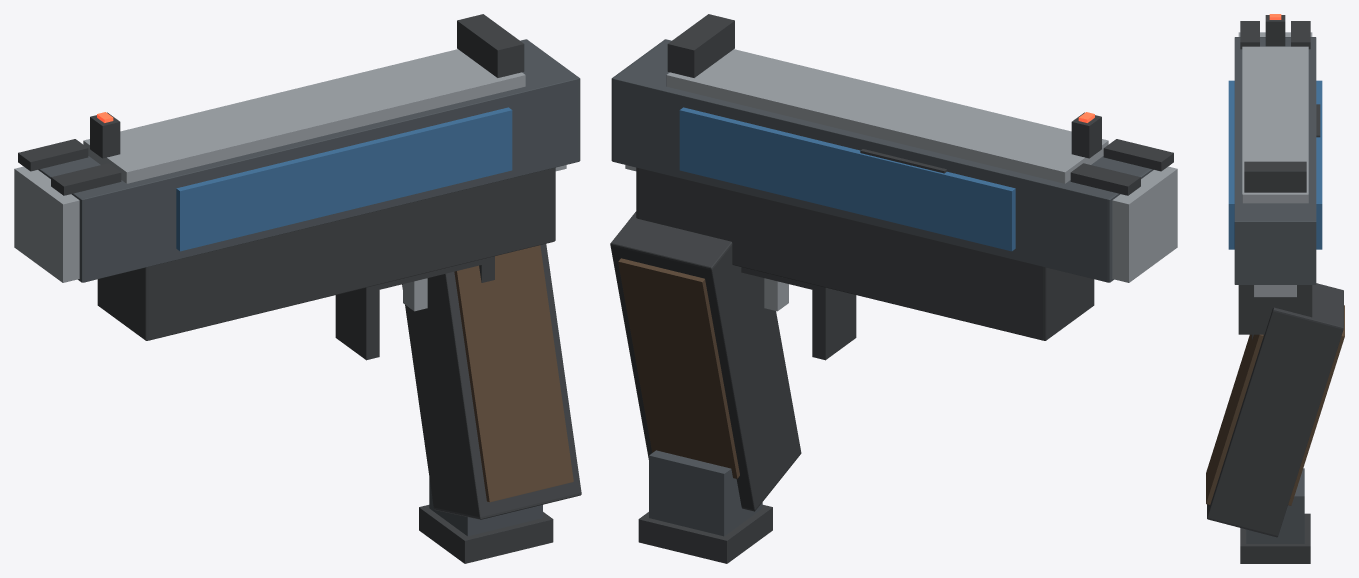
File: pistol_cobalt.glb
3 renders of one model, left to right at view 1: azimuth 30°, elevation 25°; view 2: azimuth 150°, elevation 25°; view 3: azimuth 270°, elevation 25°, orthographic. The views are drawn at different scales.
Visible parts, largest first — view 1: Frame.001, SlideBody.001, AccentL, GripPanelL.001, SlideTop.001, Grip.001, MuzzleRing.001, MagPlate.001, RearSight.001, GuardFront.001, MagBody.001, CompPort (+4 smaller); view 2: Frame.001, SlideBody.001, AccentR, SlideTop.001, Grip.001, GripPanelR.001, MagBody.001, MuzzleRing.001, MagPlate.001, RearSight.001, GuardFront.001, CompPort (+3 smaller); view 3: Grip.001, SlideBody.001, SlideTop.001, GripPanelL.001, Frame.001, RearSight.001, MagPlate.001, MagBody.001, AccentL, AccentR, GripPanelR.001, FrontSight.001 (+3 smaller).
Boxes of the visible parts, x1,y1,x2,y2 form: Frame.001: (97, 167, 555, 340); SlideBody.001: (38, 39, 580, 282); AccentL: (176, 107, 512, 251); GripPanelL.001: (454, 245, 573, 502); SlideTop.001: (83, 49, 525, 183); Grip.001: (402, 244, 581, 519); MuzzleRing.001: (14, 166, 79, 282); MagPlate.001: (419, 505, 553, 563); RearSight.001: (457, 14, 524, 77); GuardFront.001: (335, 284, 379, 360); MagBody.001: (429, 478, 542, 536); CompPort: (51, 163, 121, 195); Frame.001: (636, 167, 1094, 340); SlideBody.001: (611, 39, 1153, 282); AccentR: (679, 107, 1015, 251); SlideTop.001: (666, 49, 1108, 183); Grip.001: (610, 211, 801, 511); GripPanelR.001: (618, 258, 739, 478); MagBody.001: (649, 450, 762, 536); MuzzleRing.001: (1112, 166, 1177, 282); MagPlate.001: (638, 505, 772, 563); RearSight.001: (667, 14, 734, 77); GuardFront.001: (812, 286, 856, 360); CompPort: (1103, 139, 1173, 171); Grip.001: (1207, 283, 1343, 537); SlideBody.001: (1234, 37, 1316, 284); SlideTop.001: (1242, 46, 1308, 203); GripPanelL.001: (1206, 334, 1263, 504); Frame.001: (1238, 285, 1312, 334); RearSight.001: (1244, 161, 1306, 192); MagPlate.001: (1240, 513, 1310, 563); MagBody.001: (1246, 468, 1304, 543); AccentL: (1228, 80, 1234, 249); AccentR: (1316, 80, 1322, 249); GripPanelR.001: (1288, 305, 1344, 505); FrontSight.001: (1265, 15, 1285, 46).
Size of the model in its own units: 0.2325 by 0.2215 by 0.0714.
